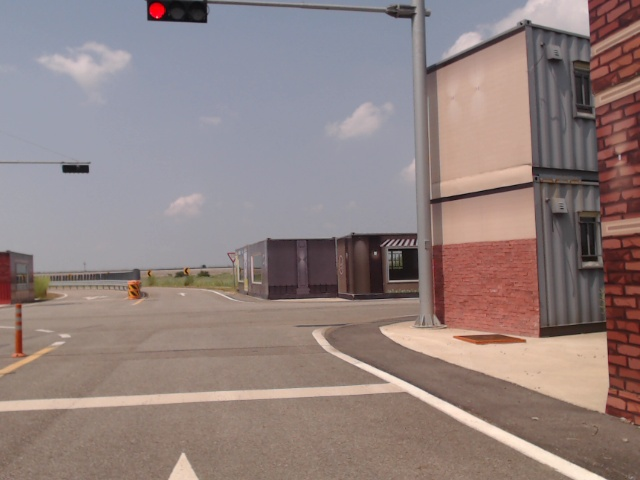red_3: (148, 0, 208, 23)
